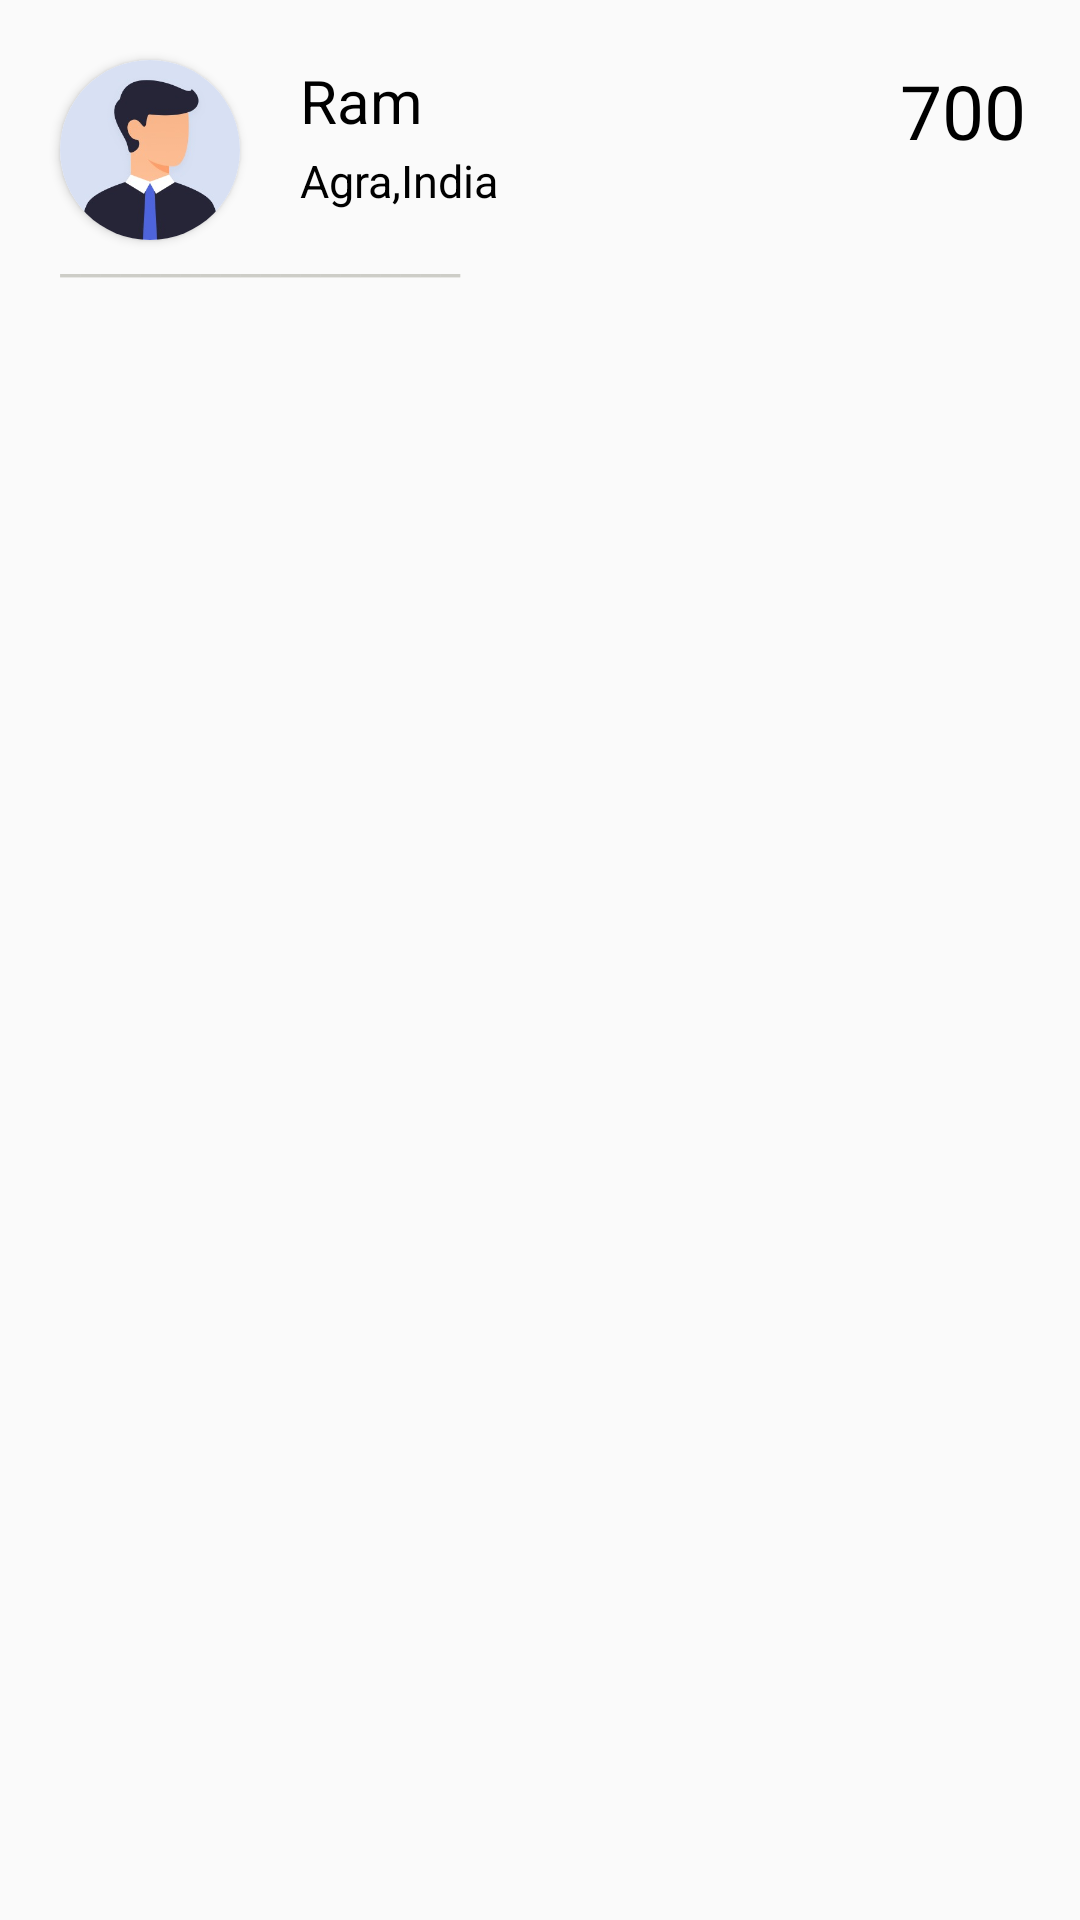

Screen size 1080 × 1920. Icon name, then its box in pixels as (x1, y1, x2, y2):
person: (60, 60, 240, 240)
